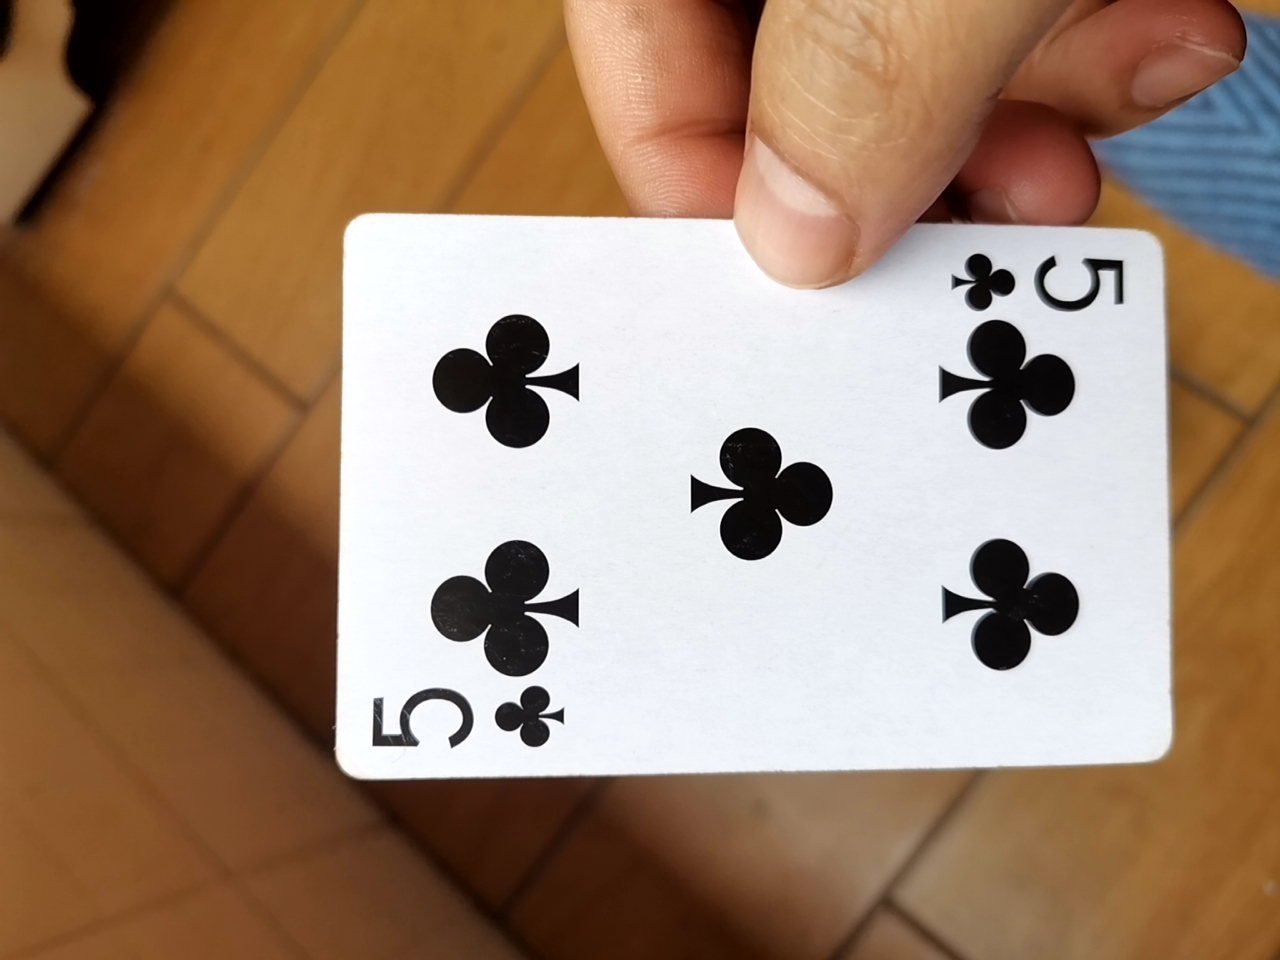mh 5: (318, 209, 1165, 786)
